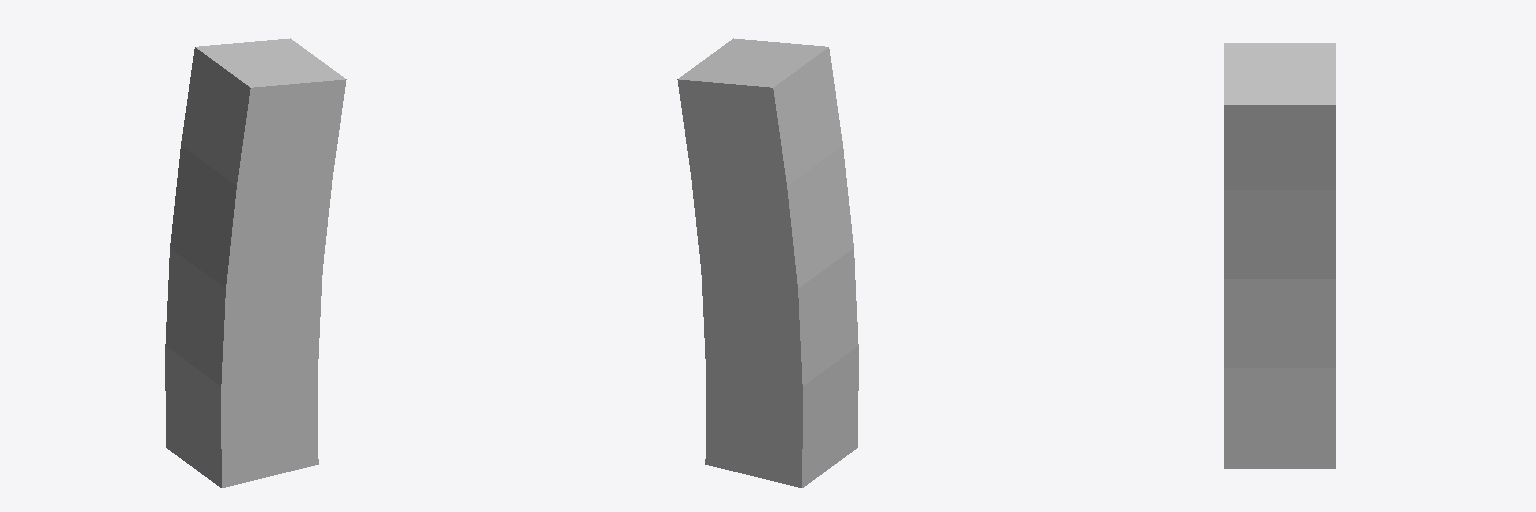
File: Animation_000039.obj
3 views of the same model, side by side, from view 1: azimuth 30°, elevation 25°; view 2: azimuth 150°, elevation 25°; view 3: azimuth 270°, elevation 25° (orthographic).
Parts seen in each view (by area): view 1: Cube; view 2: Cube; view 3: Cube.
Part boxes in pixels (bbox=[...]): Cube: bbox=[165, 38, 346, 487]; Cube: bbox=[677, 38, 858, 487]; Cube: bbox=[1224, 43, 1335, 468].
Size of the model in its own units: 1.72 by 5.17 by 1.33.